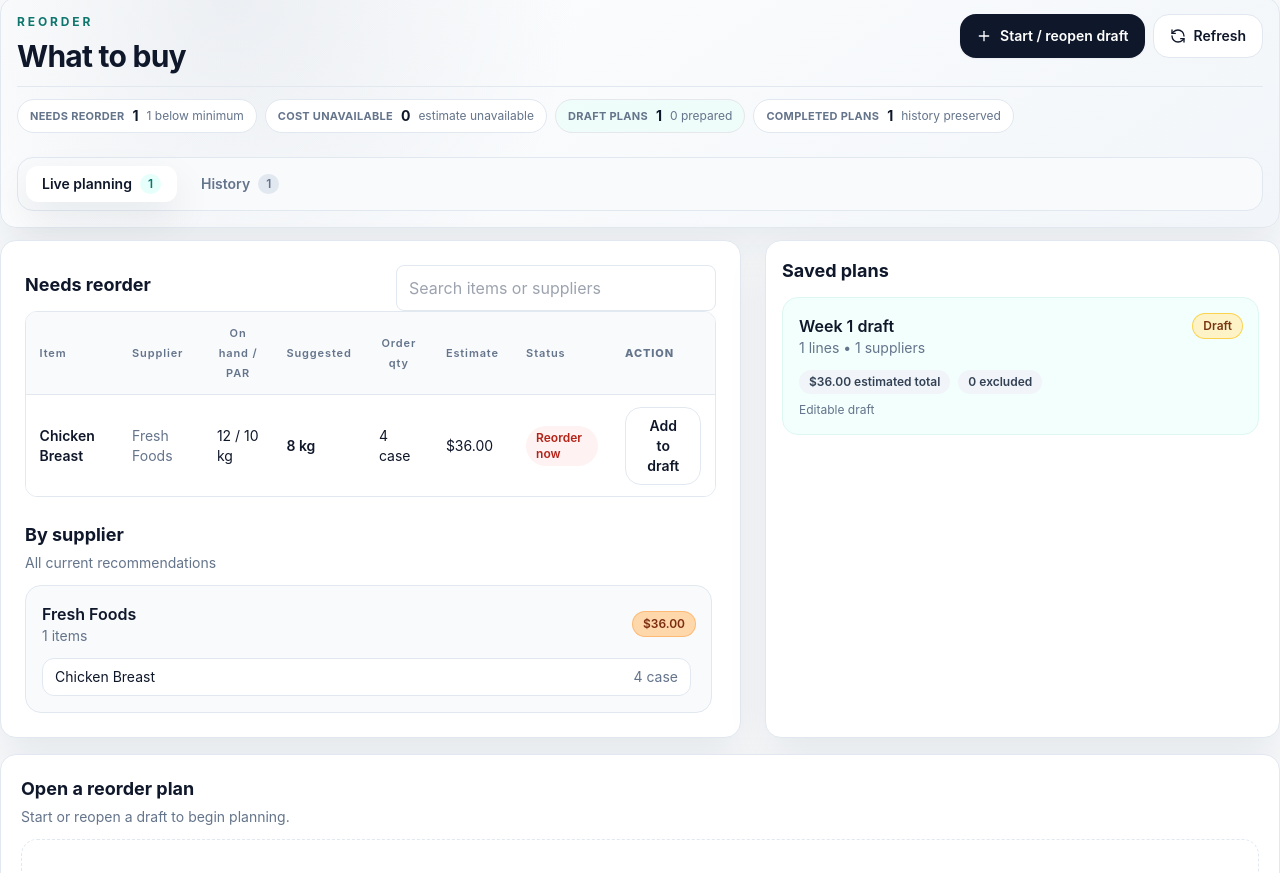
Test: PilotReorderPlanPage › uses stock units per purchase unit for conversion labels
The width and height of the screenshot is (1280, 873).
Click the button "Week 1 draft".
click(847, 326)  # box [782,297,1259,435]
(page scrolled)
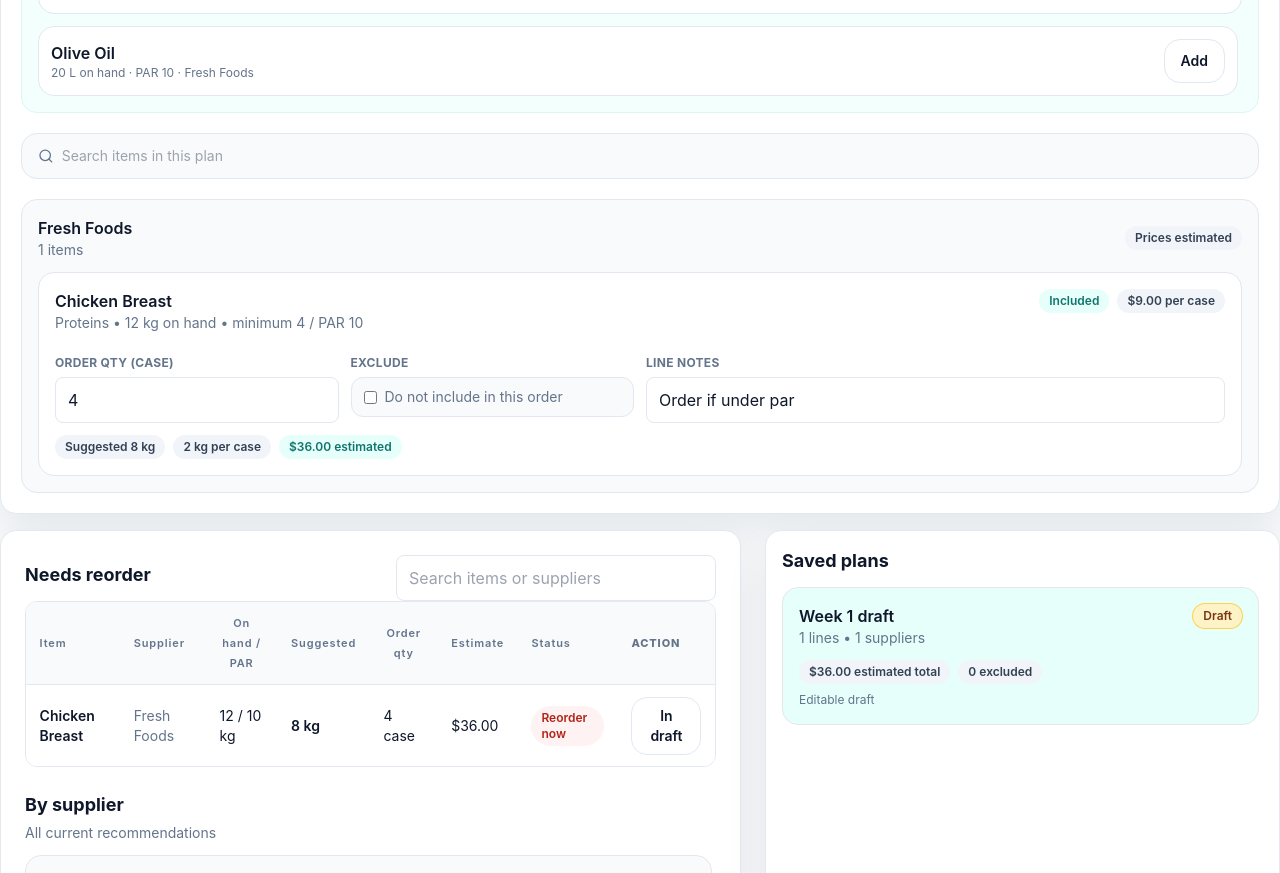
Expected: the text "2 kg per case" is shown, [173,435,271,459]
